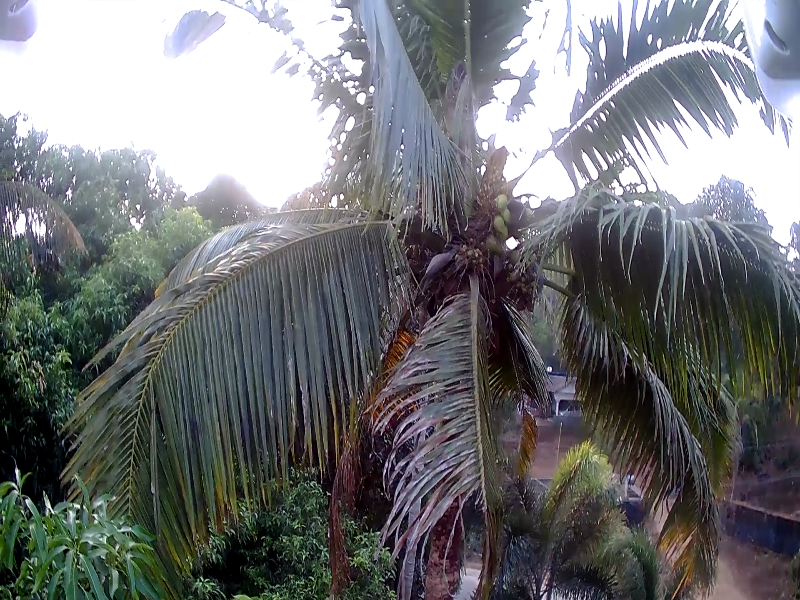coconut: (490, 217, 503, 233), (499, 206, 509, 225), (484, 234, 500, 245), (514, 264, 528, 276), (494, 193, 507, 204)
